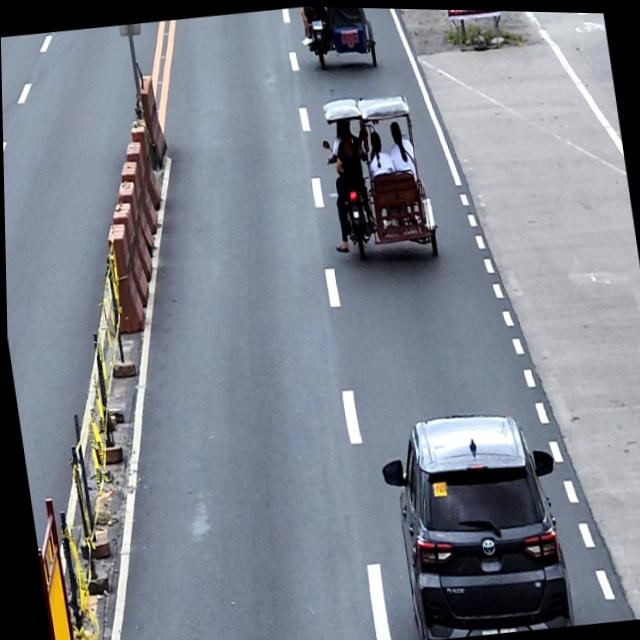Car: (372, 399, 574, 640)
License-Plate: (311, 17, 323, 29)
Tricycle: (314, 85, 440, 266), (299, 5, 379, 76)
